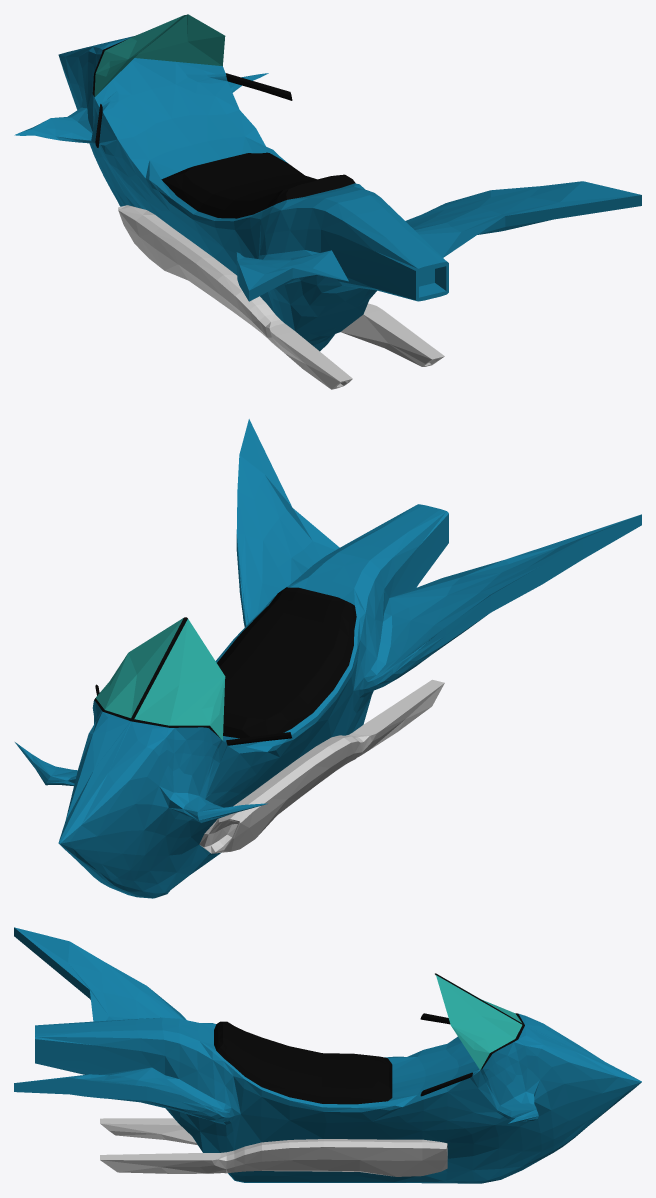
The model's file is HoverBike1.obj.
3 renders of one model, top to bottom at view 1: azimuth 30°, elevation 25°; view 2: azimuth 150°, elevation 25°; view 3: azimuth 270°, elevation 25°, orthographic. The views are drawn at different scales.
Visible parts, largest first — view 1: Plane; view 2: Plane; view 3: Plane.
Boxes of the visible parts, box(x1,y1,x2,y2) form: Plane: box(14, 14, 641, 389); Plane: box(15, 419, 641, 898); Plane: box(14, 927, 641, 1183).
Bounding box in the file's own units: 180 × 112 × 307.
